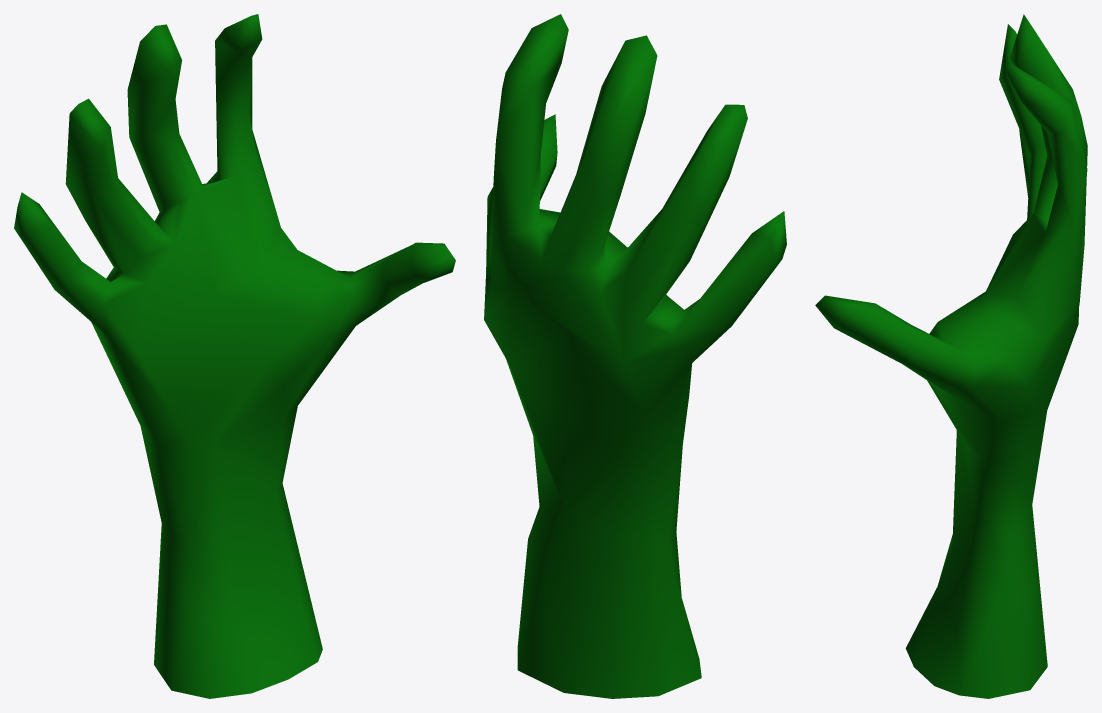
File: HWN20_ZombieHand_02.glb
3 renders of one model, left to right at view 1: azimuth 30°, elevation 25°; view 2: azimuth 150°, elevation 25°; view 3: azimuth 270°, elevation 25°, orthographic. The views are drawn at different scales.
Visible parts, largest first — view 1: HWN20_ZombieHand_02; view 2: HWN20_ZombieHand_02; view 3: HWN20_ZombieHand_02.
Boxes of the visible parts, bbox=[...] form: HWN20_ZombieHand_02: bbox=[14, 14, 455, 698]; HWN20_ZombieHand_02: bbox=[484, 14, 786, 698]; HWN20_ZombieHand_02: bbox=[815, 14, 1087, 698].
Size of what is drawn, in the model's own units: 0.3132 by 0.5569 by 0.2216.
Materials: 1 (1 with a texture image).
